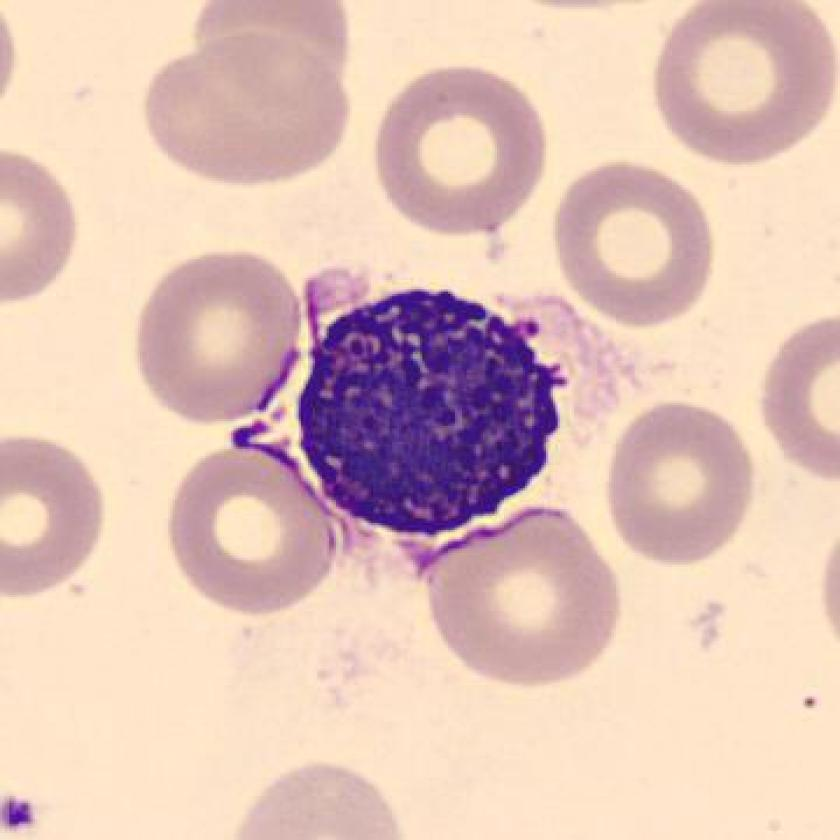basophil: (274, 286, 580, 556)
